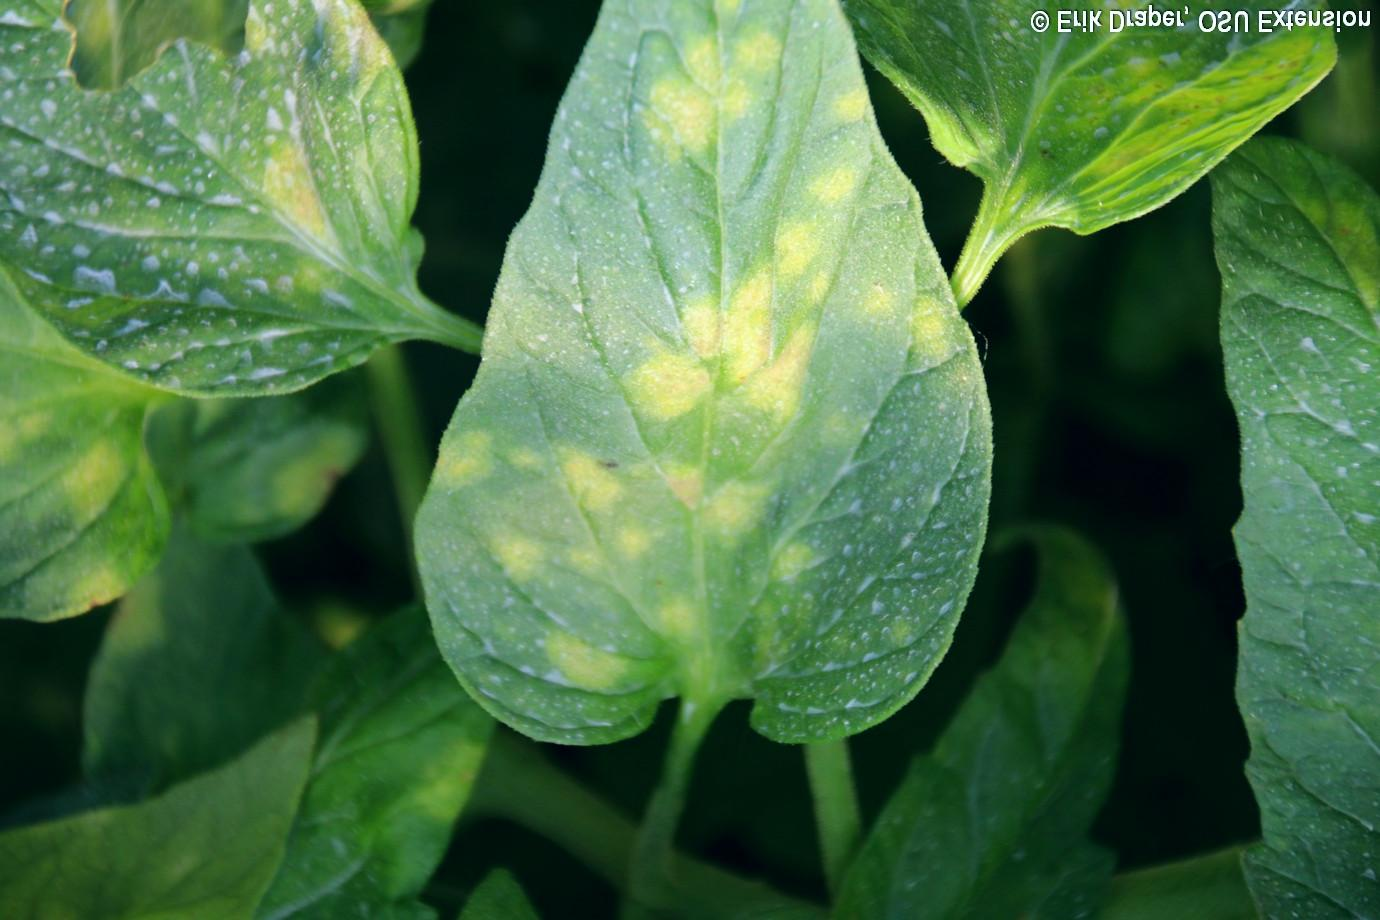Tomato mold leaf: (408, 0, 977, 779)
